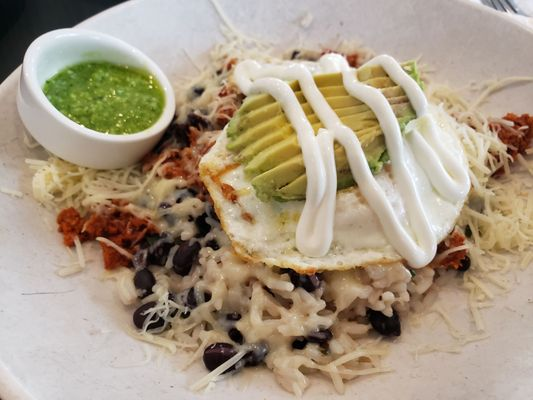sushi: (16, 27, 176, 171)
